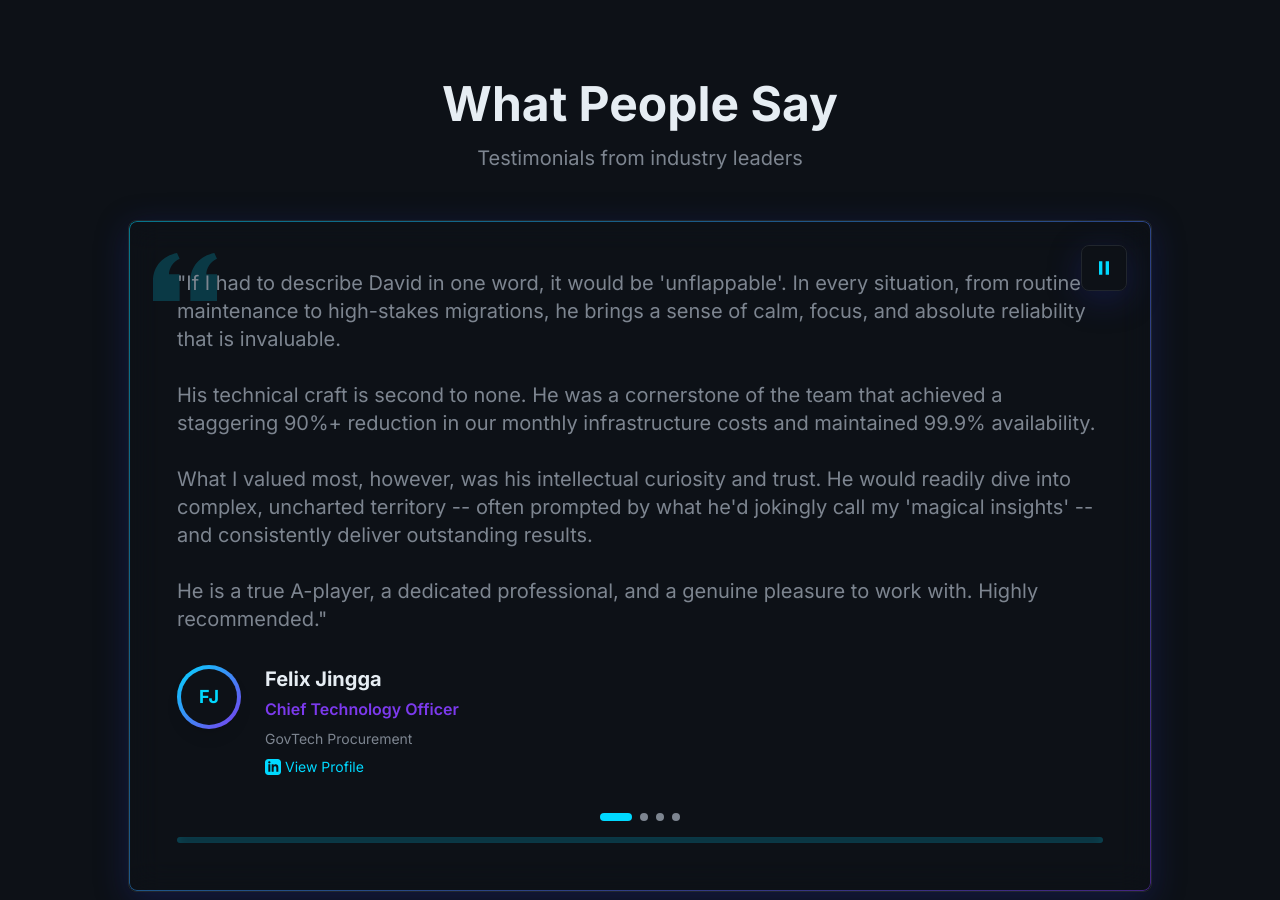
Scenario: Testimonials Component › changes testimonial on dot click
// Click second dot
Click the button named "Go to testimonial 2".
click(644, 817)  # box [640,813,648,821]
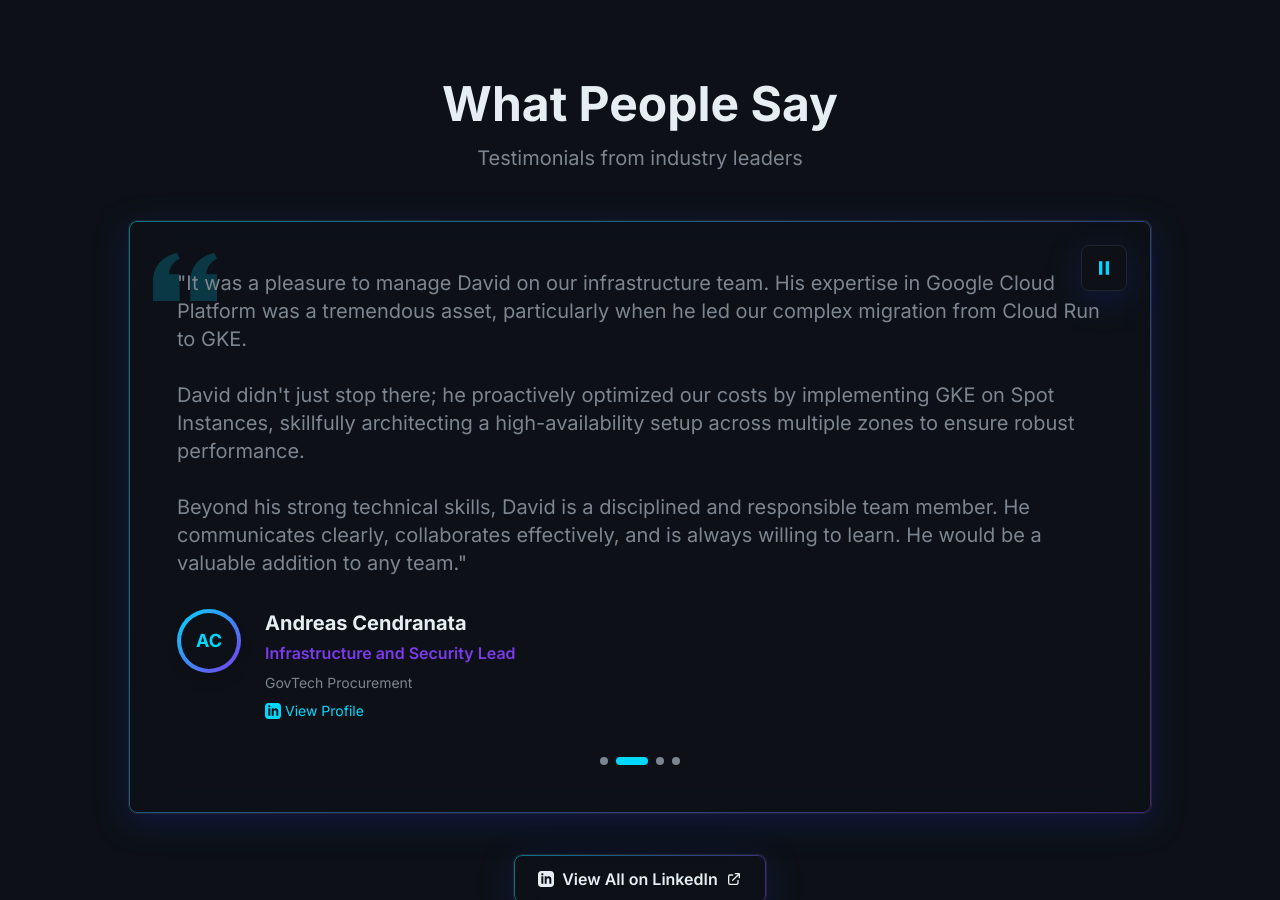
Check: the text "Andreas Cendranata" is shown, box [265,611,467,635]
